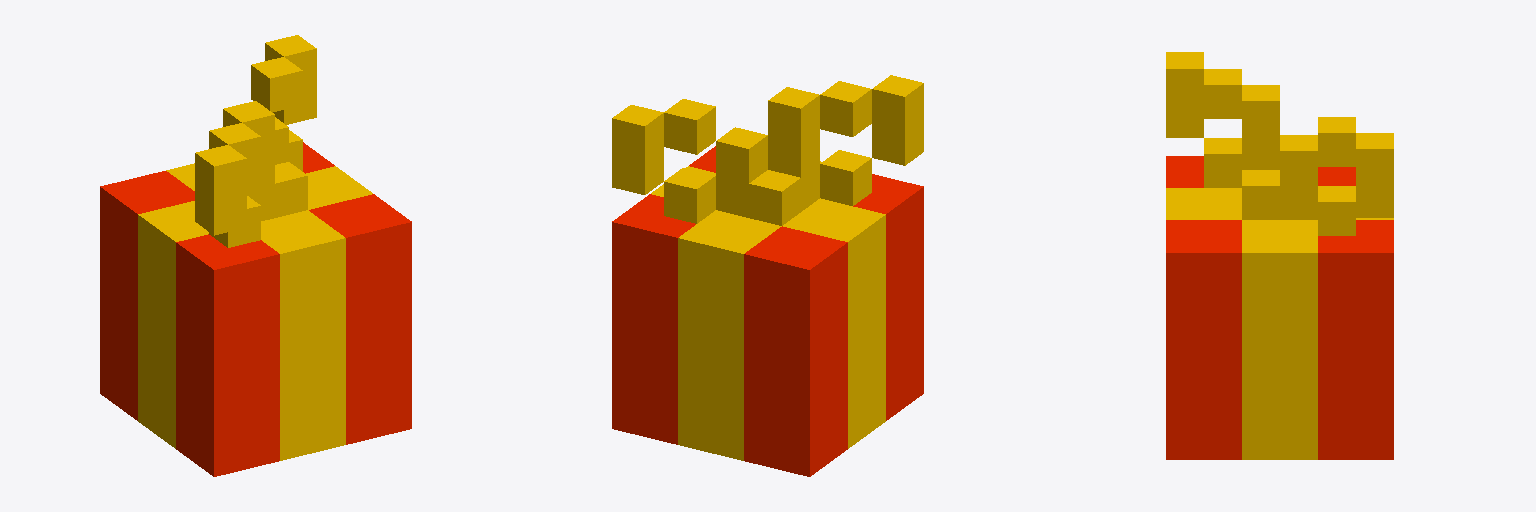
3 views of the same model, side by side, from view 1: azimuth 30°, elevation 25°; view 2: azimuth 150°, elevation 25°; view 3: azimuth 270°, elevation 25° (orthographic).
Size of the model in its own units: 6 by 9 by 6.
Materials: 1 (1 with a texture image).